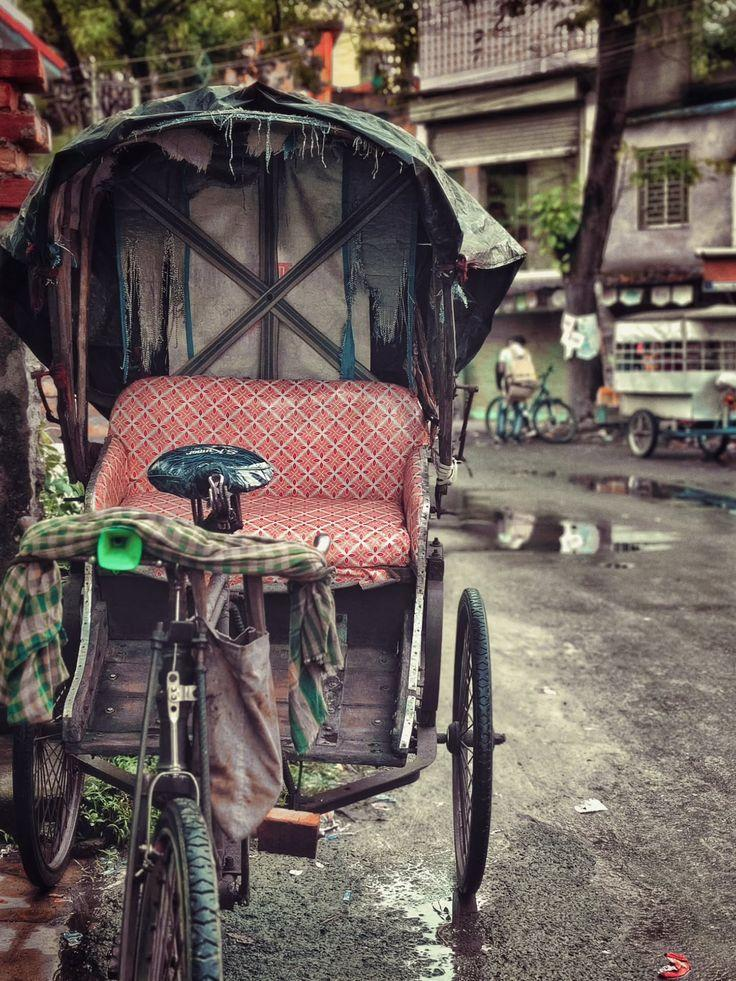Rickshaw: (0, 72, 544, 981)
